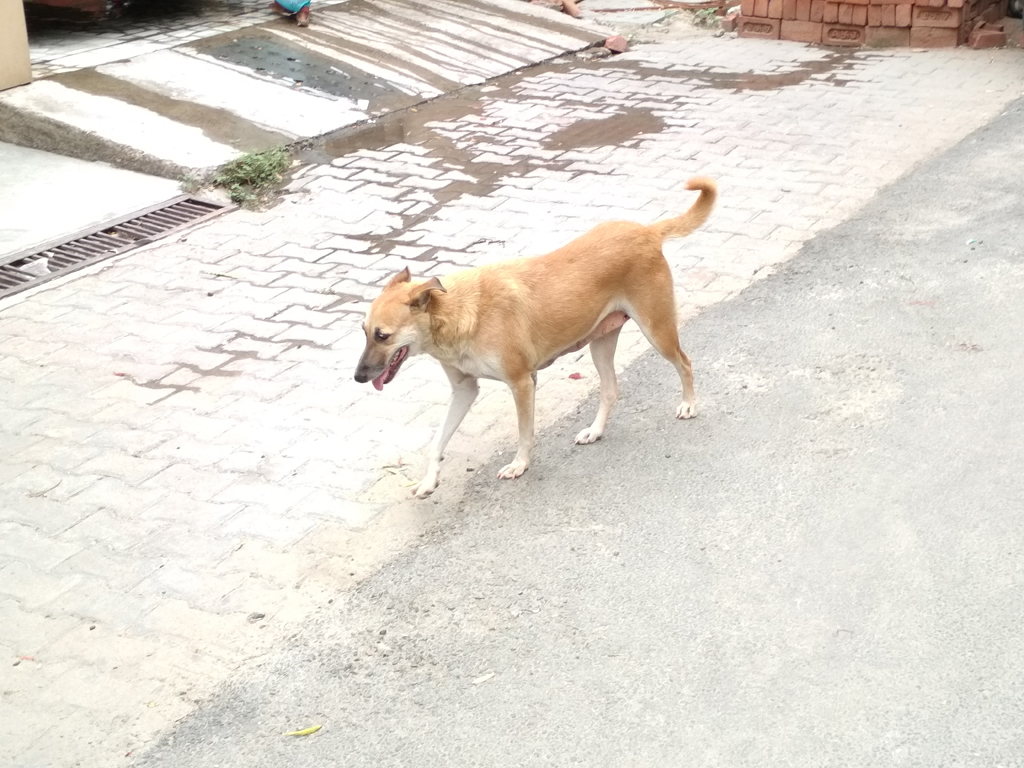dog: (355, 179, 719, 497)
